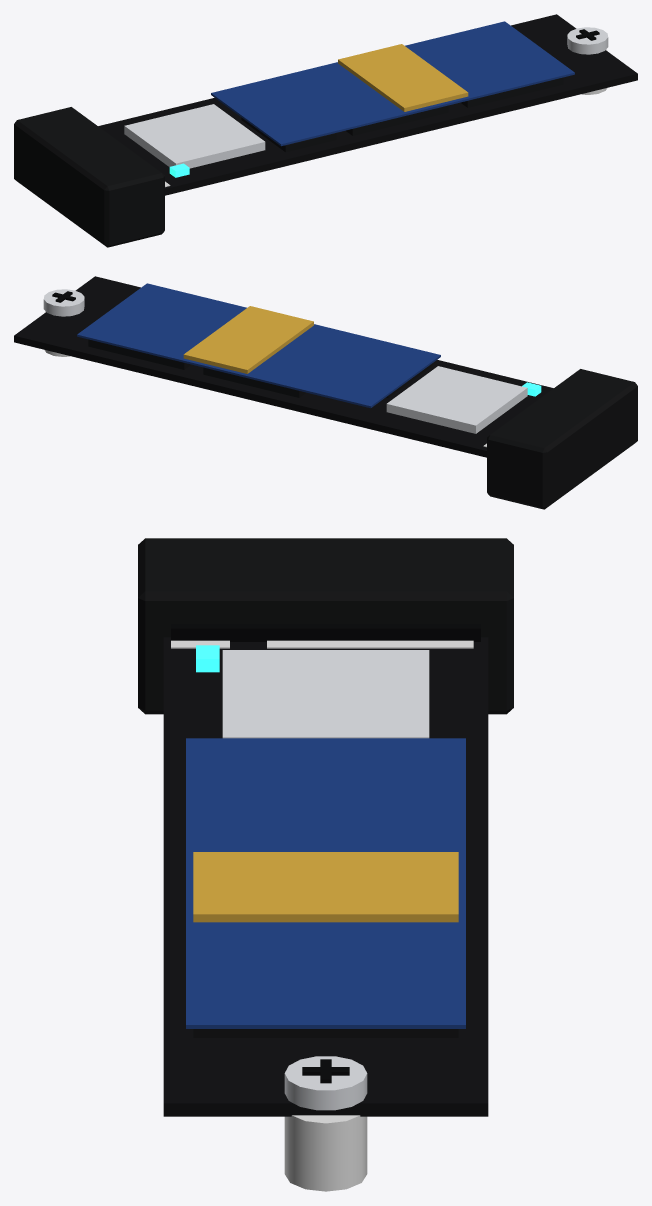
The model's file is hwm_sto_hdd_500gb.glb.
3 renders of one model, top to bottom at view 1: azimuth 30°, elevation 25°; view 2: azimuth 150°, elevation 25°; view 3: azimuth 270°, elevation 25°, orthographic. The views are drawn at different scales.
Parts seen in each view (by area): view 1: SSD_0, Slots, Screw_0; view 2: SSD_0, Slots, Screw_0; view 3: SSD_0, Slots, Screw_0.
Part boxes in pixels (x1,y1,x2,y2): SSD_0: (98, 14, 637, 195); Slots: (14, 49, 607, 247); Screw_0: (567, 27, 608, 54); SSD_0: (14, 276, 553, 457); Slots: (44, 311, 637, 509); Screw_0: (43, 289, 84, 316); SSD_0: (163, 637, 488, 1116); Slots: (138, 538, 513, 1191); Screw_0: (284, 1056, 367, 1110).
Size of the model in its own units: 0.0855 by 0.0092 by 0.0255.
